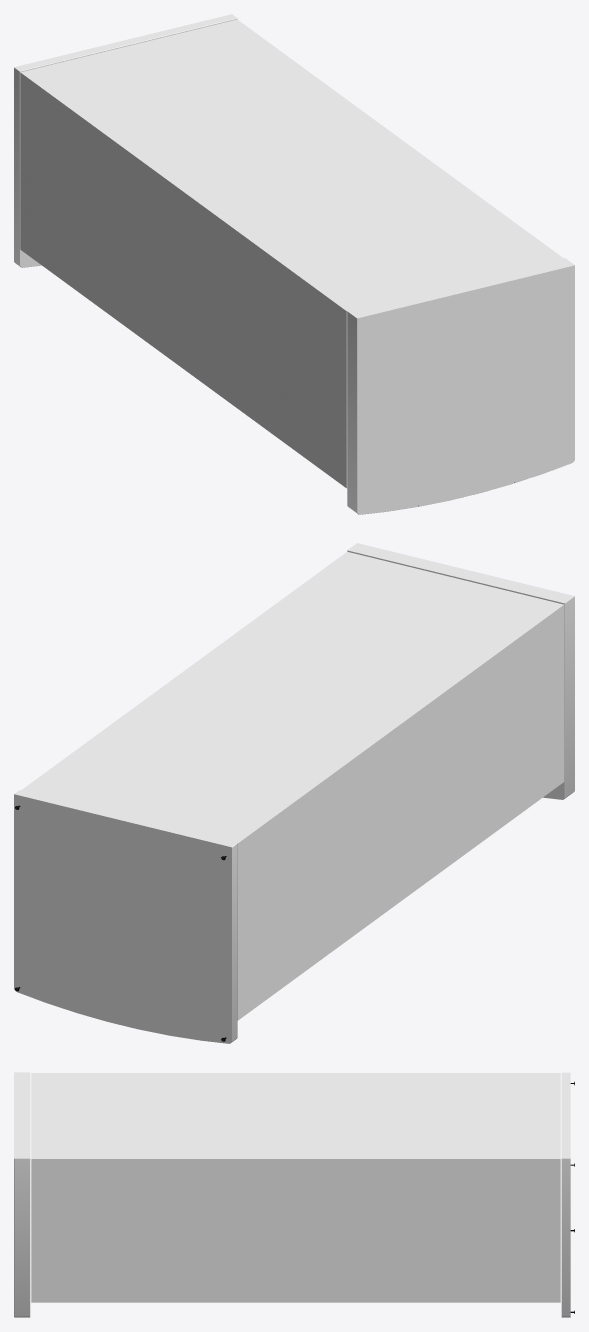
Rendered from fridge0015.glb.
The picture shows the model from 3 angles, top to bottom: view 1: azimuth 30°, elevation 25°; view 2: azimuth 150°, elevation 25°; view 3: azimuth 270°, elevation 25°; orthographic projection. The views are drawn at different scales.
Visible parts, largest first — view 1: fridge0015; view 2: fridge0015; view 3: fridge0015.
Boxes of the visible parts, box(x1,y1,x2,y2) form: fridge0015: box(14, 14, 574, 514); fridge0015: box(14, 543, 574, 1043); fridge0015: box(14, 1072, 574, 1317).
Size of the model in its own units: 0.6735 by 0.6059 by 1.85.
Materials: 3 (3 with a texture image).
